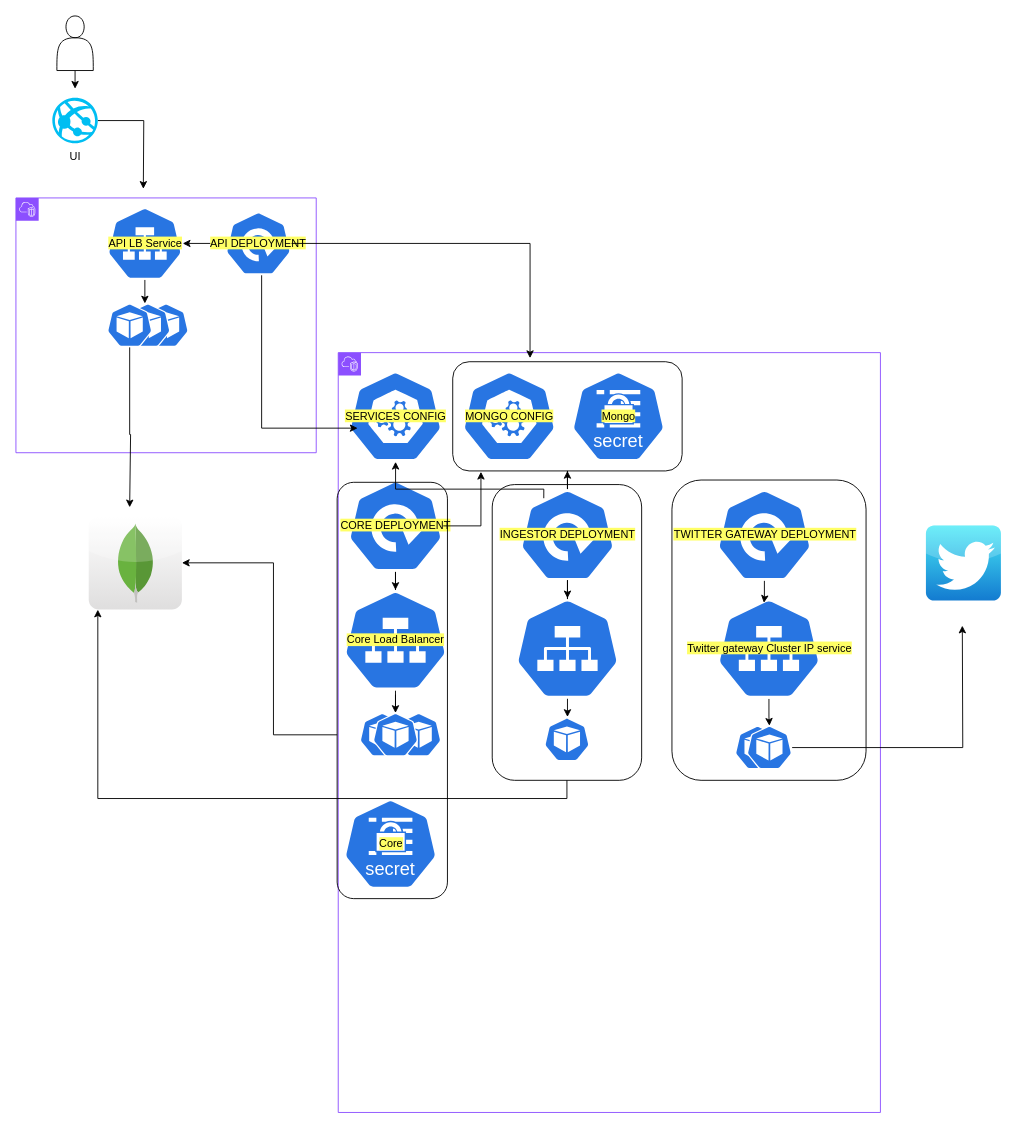
The diagram is 1017 pixels wide and 1128 high, and some of its shapes have lost their labels. Each missing label, with the box of its shape:
Ingestor Cluster IP service: (514, 597, 620, 699)
Mongo DB: (88, 516, 182, 610)
PRIVATE VPC: (337, 352, 880, 1112)
PUBLIC VPC: (15, 197, 316, 453)
Twitter: (925, 525, 1001, 601)
User: (56, 15, 93, 71)
